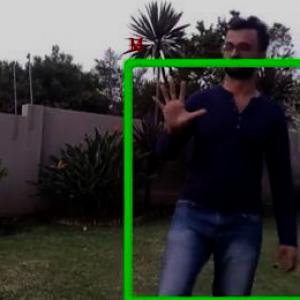follow_hand: (148, 71, 209, 134)
